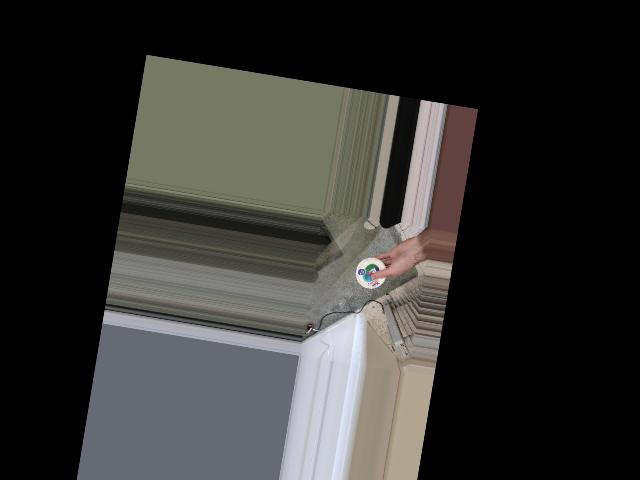cotage: (355, 256, 388, 289)
